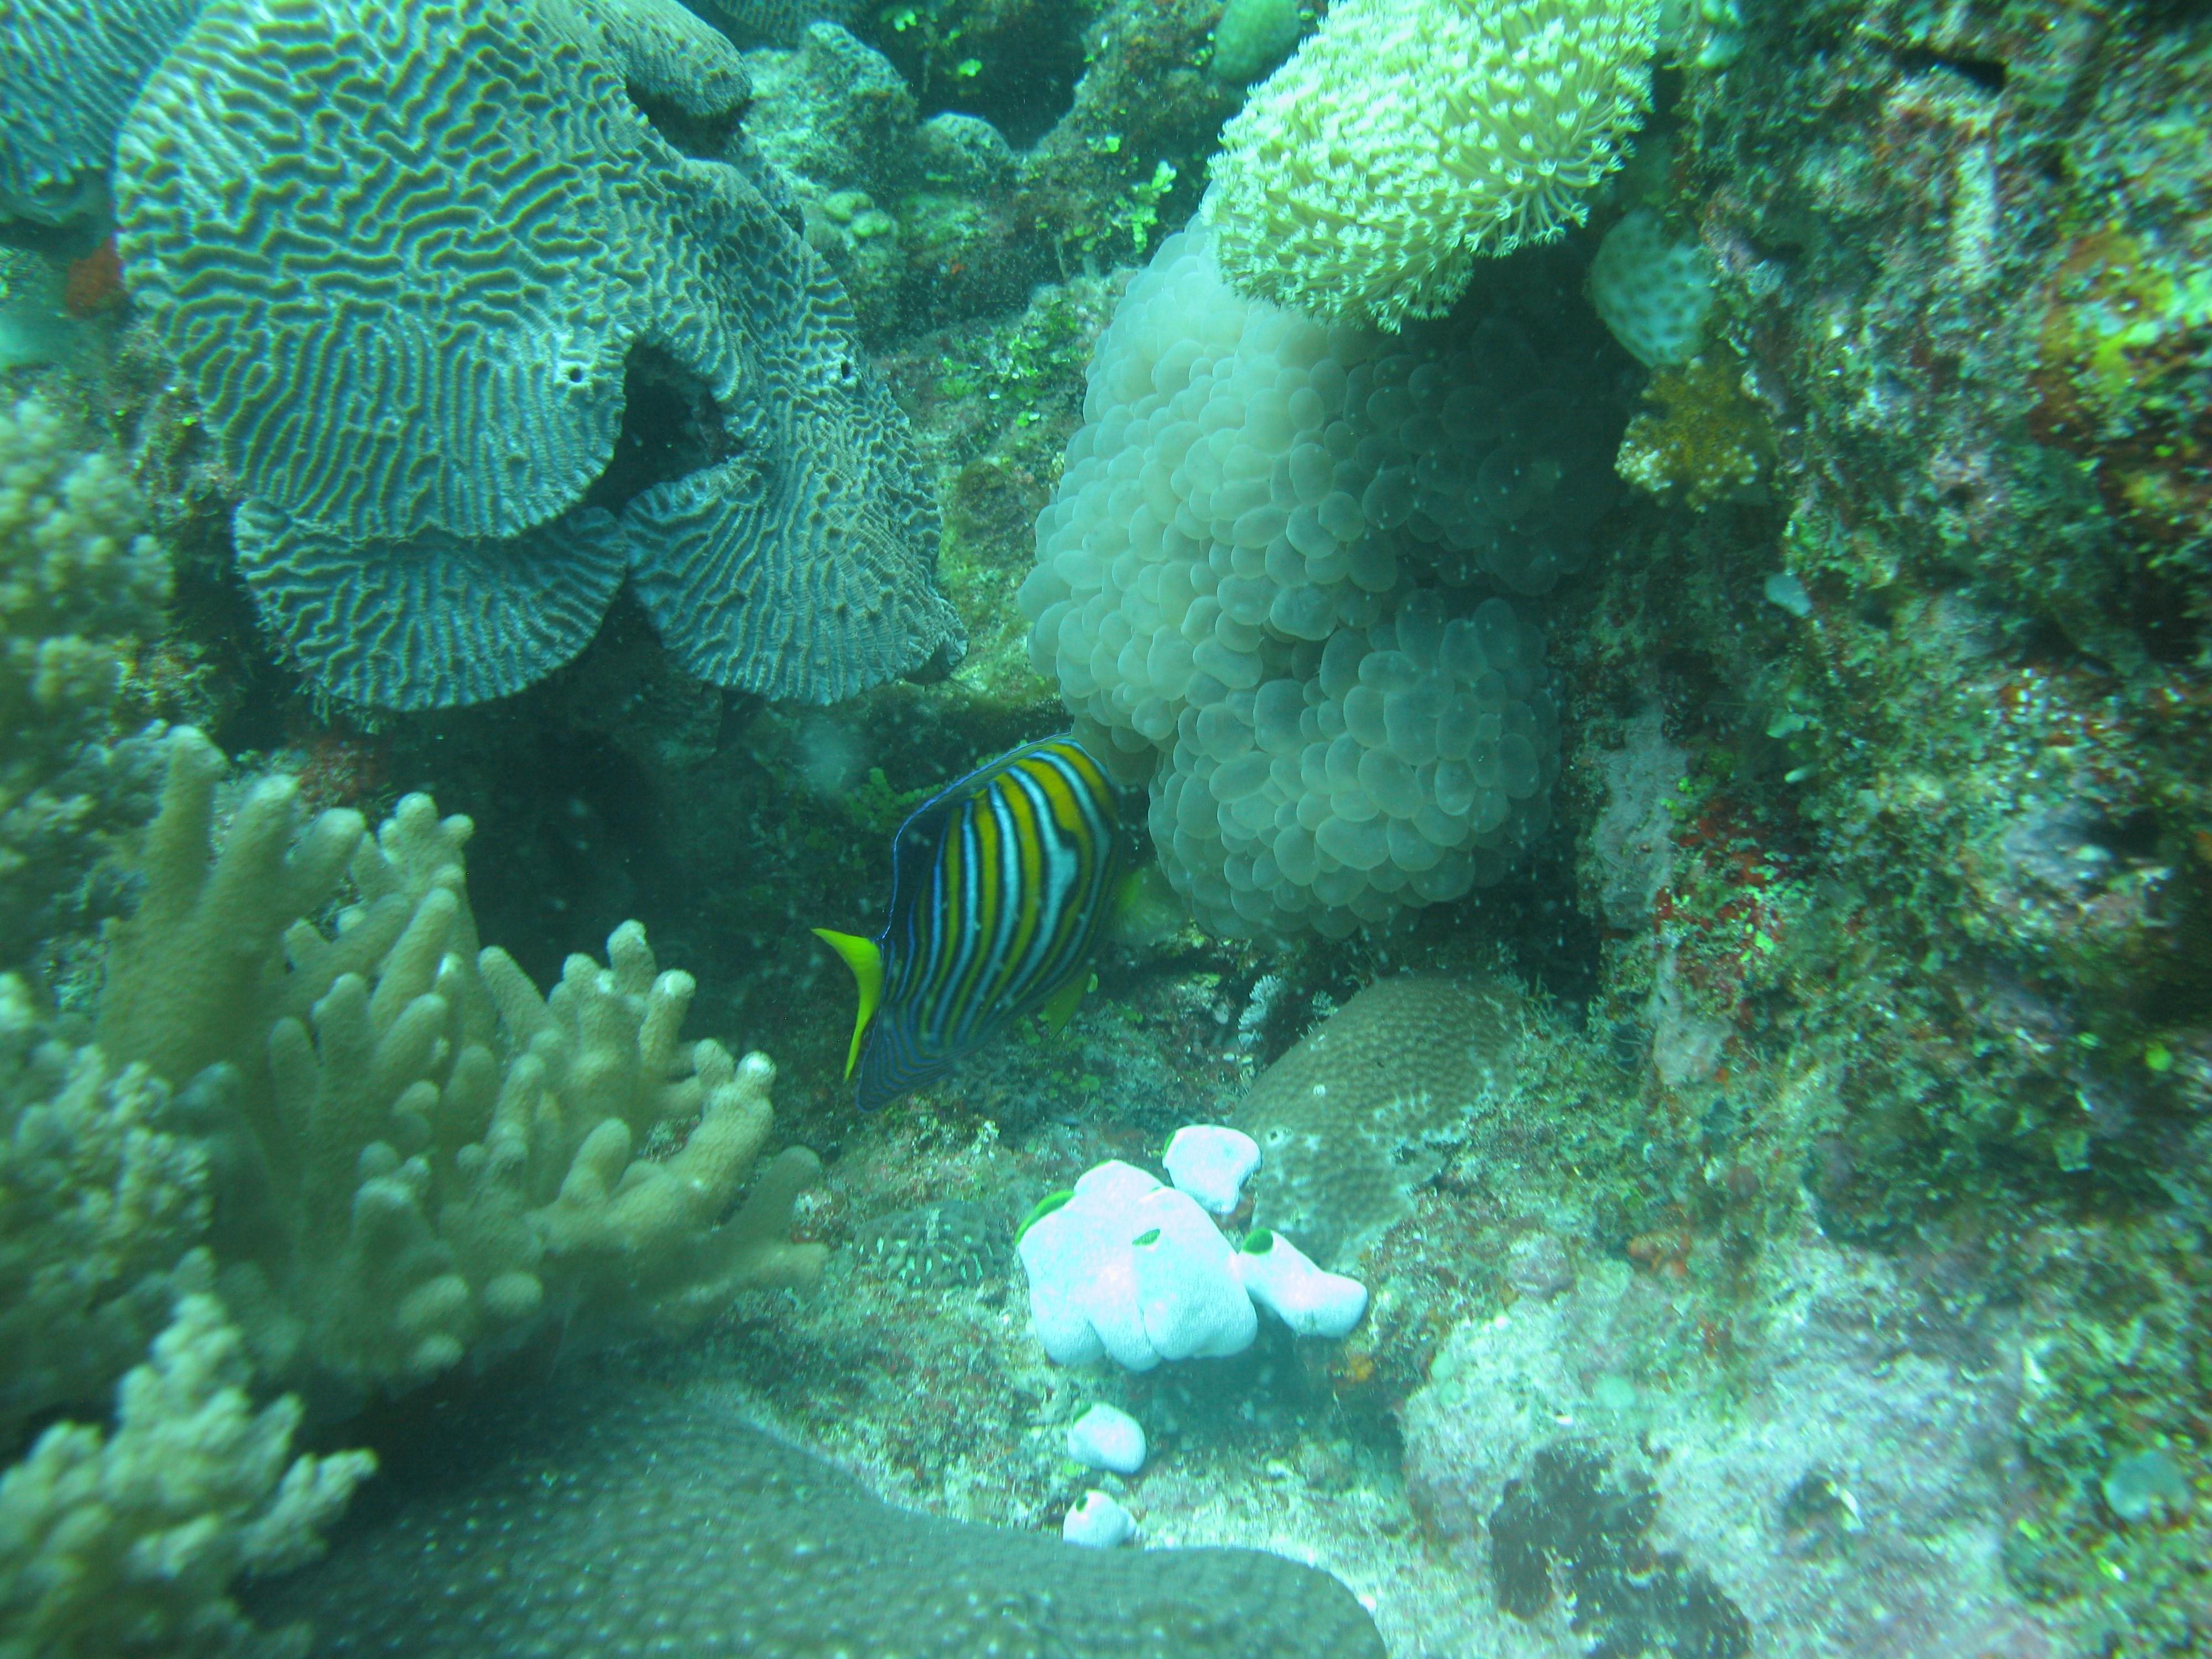Fish: (799, 734, 1167, 1107)
